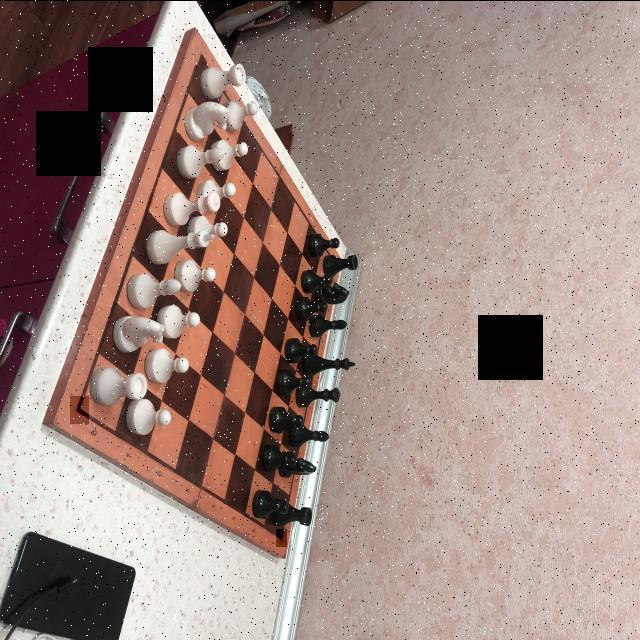chess-table-corners: (70, 395, 89, 423), (192, 45, 206, 64), (276, 528, 287, 546)
